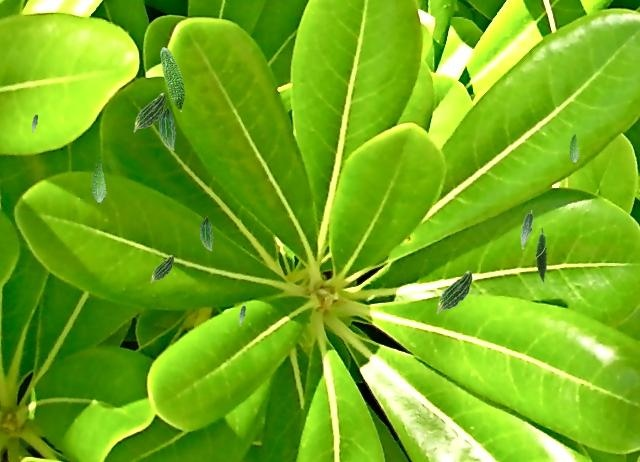ampalaya: (160, 46, 186, 112), (436, 270, 472, 314), (133, 92, 166, 132), (534, 227, 549, 283), (158, 106, 176, 150), (90, 159, 107, 204), (150, 254, 174, 283), (520, 209, 533, 249), (199, 215, 213, 251), (568, 132, 580, 164), (238, 303, 246, 326), (31, 112, 38, 133)
